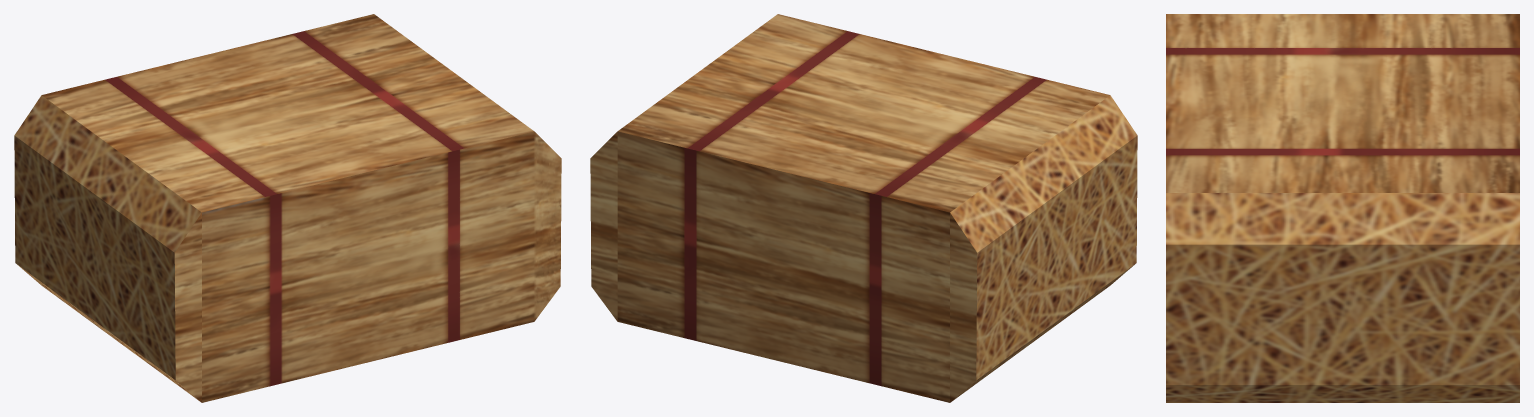
File: haybale.fbx
3 views of the same model, side by side, from view 1: azimuth 30°, elevation 25°; view 2: azimuth 150°, elevation 25°; view 3: azimuth 270°, elevation 25° (orthographic). The views are drawn at different scales.
Parts seen in each view (by area): view 1: haybale; view 2: haybale; view 3: haybale.
Part boxes in pixels (bbox=[...]): haybale: bbox=[14, 14, 561, 402]; haybale: bbox=[590, 14, 1137, 402]; haybale: bbox=[1166, 14, 1519, 402].
Size of the model in its own units: 442 by 208 by 317.
1 material, 1 textured.
